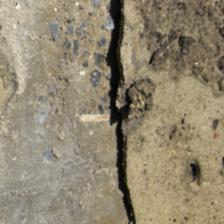Crack: (97, 3, 157, 224)
